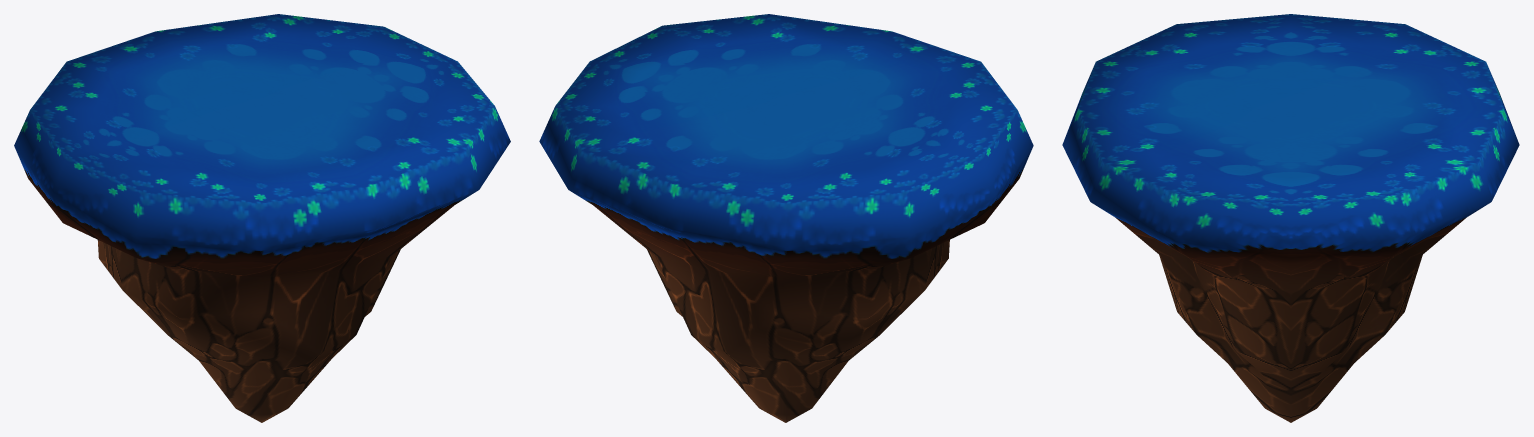
Rendered from Blue_Island.FBX.
The picture shows the model from 3 angles, left to right: view 1: azimuth 30°, elevation 25°; view 2: azimuth 150°, elevation 25°; view 3: azimuth 270°, elevation 25°; orthographic projection.
Parts seen in each view (by area): view 1: Blue_Island; view 2: Blue_Island; view 3: Blue_Island.
Boxes of the visible parts, x1,y1,x2,y2 form: Blue_Island: [14, 14, 510, 422]; Blue_Island: [539, 14, 1033, 422]; Blue_Island: [1062, 14, 1519, 422].
Bounding box in the file's own units: 1823 × 1312 × 1724.
